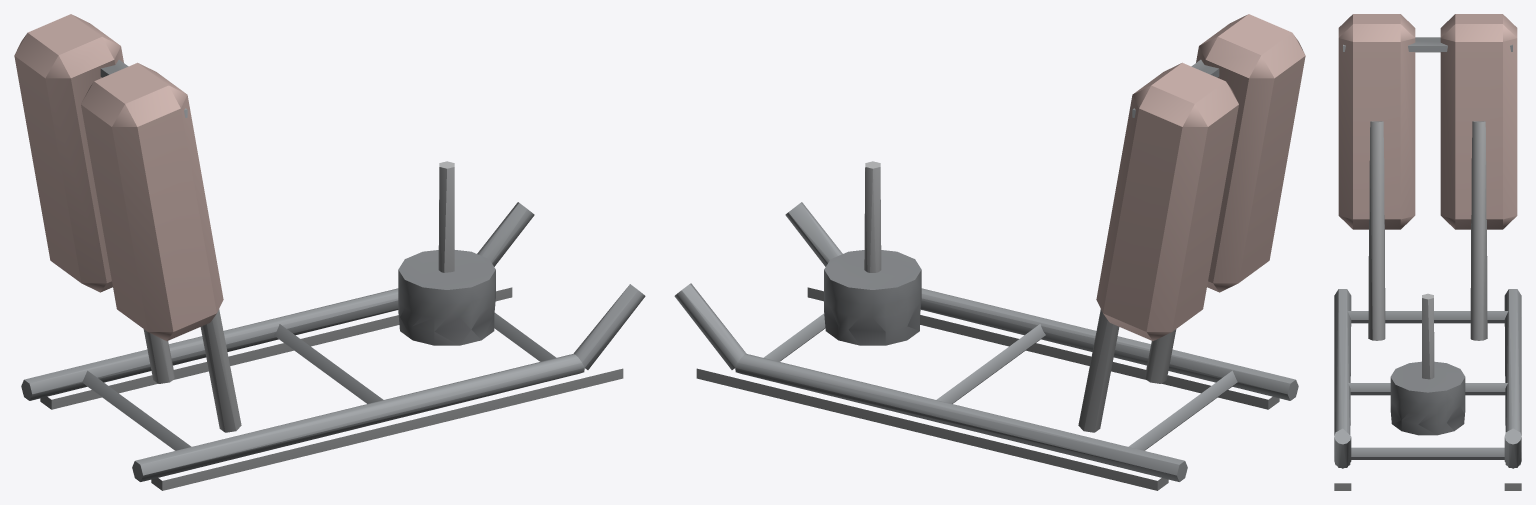
Rendered from sled.lod1.glb.
The picture shows the model from 3 angles, left to right: view 1: azimuth 30°, elevation 25°; view 2: azimuth 150°, elevation 25°; view 3: azimuth 270°, elevation 25°; orthographic projection. The views are drawn at different scales.
Size of the model in its own units: 2.73 by 1.95 by 1.1.
